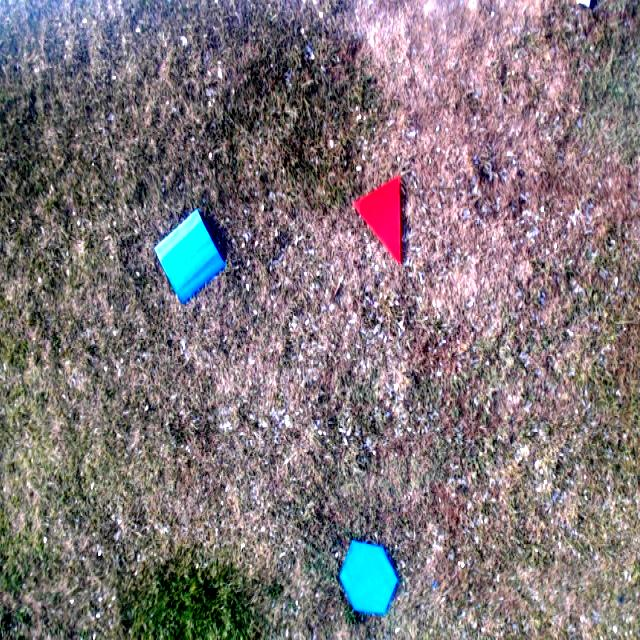blue_hexagon: (341, 538, 398, 614)
blue_square: (156, 210, 226, 301)
red_triangle: (357, 177, 402, 265)
